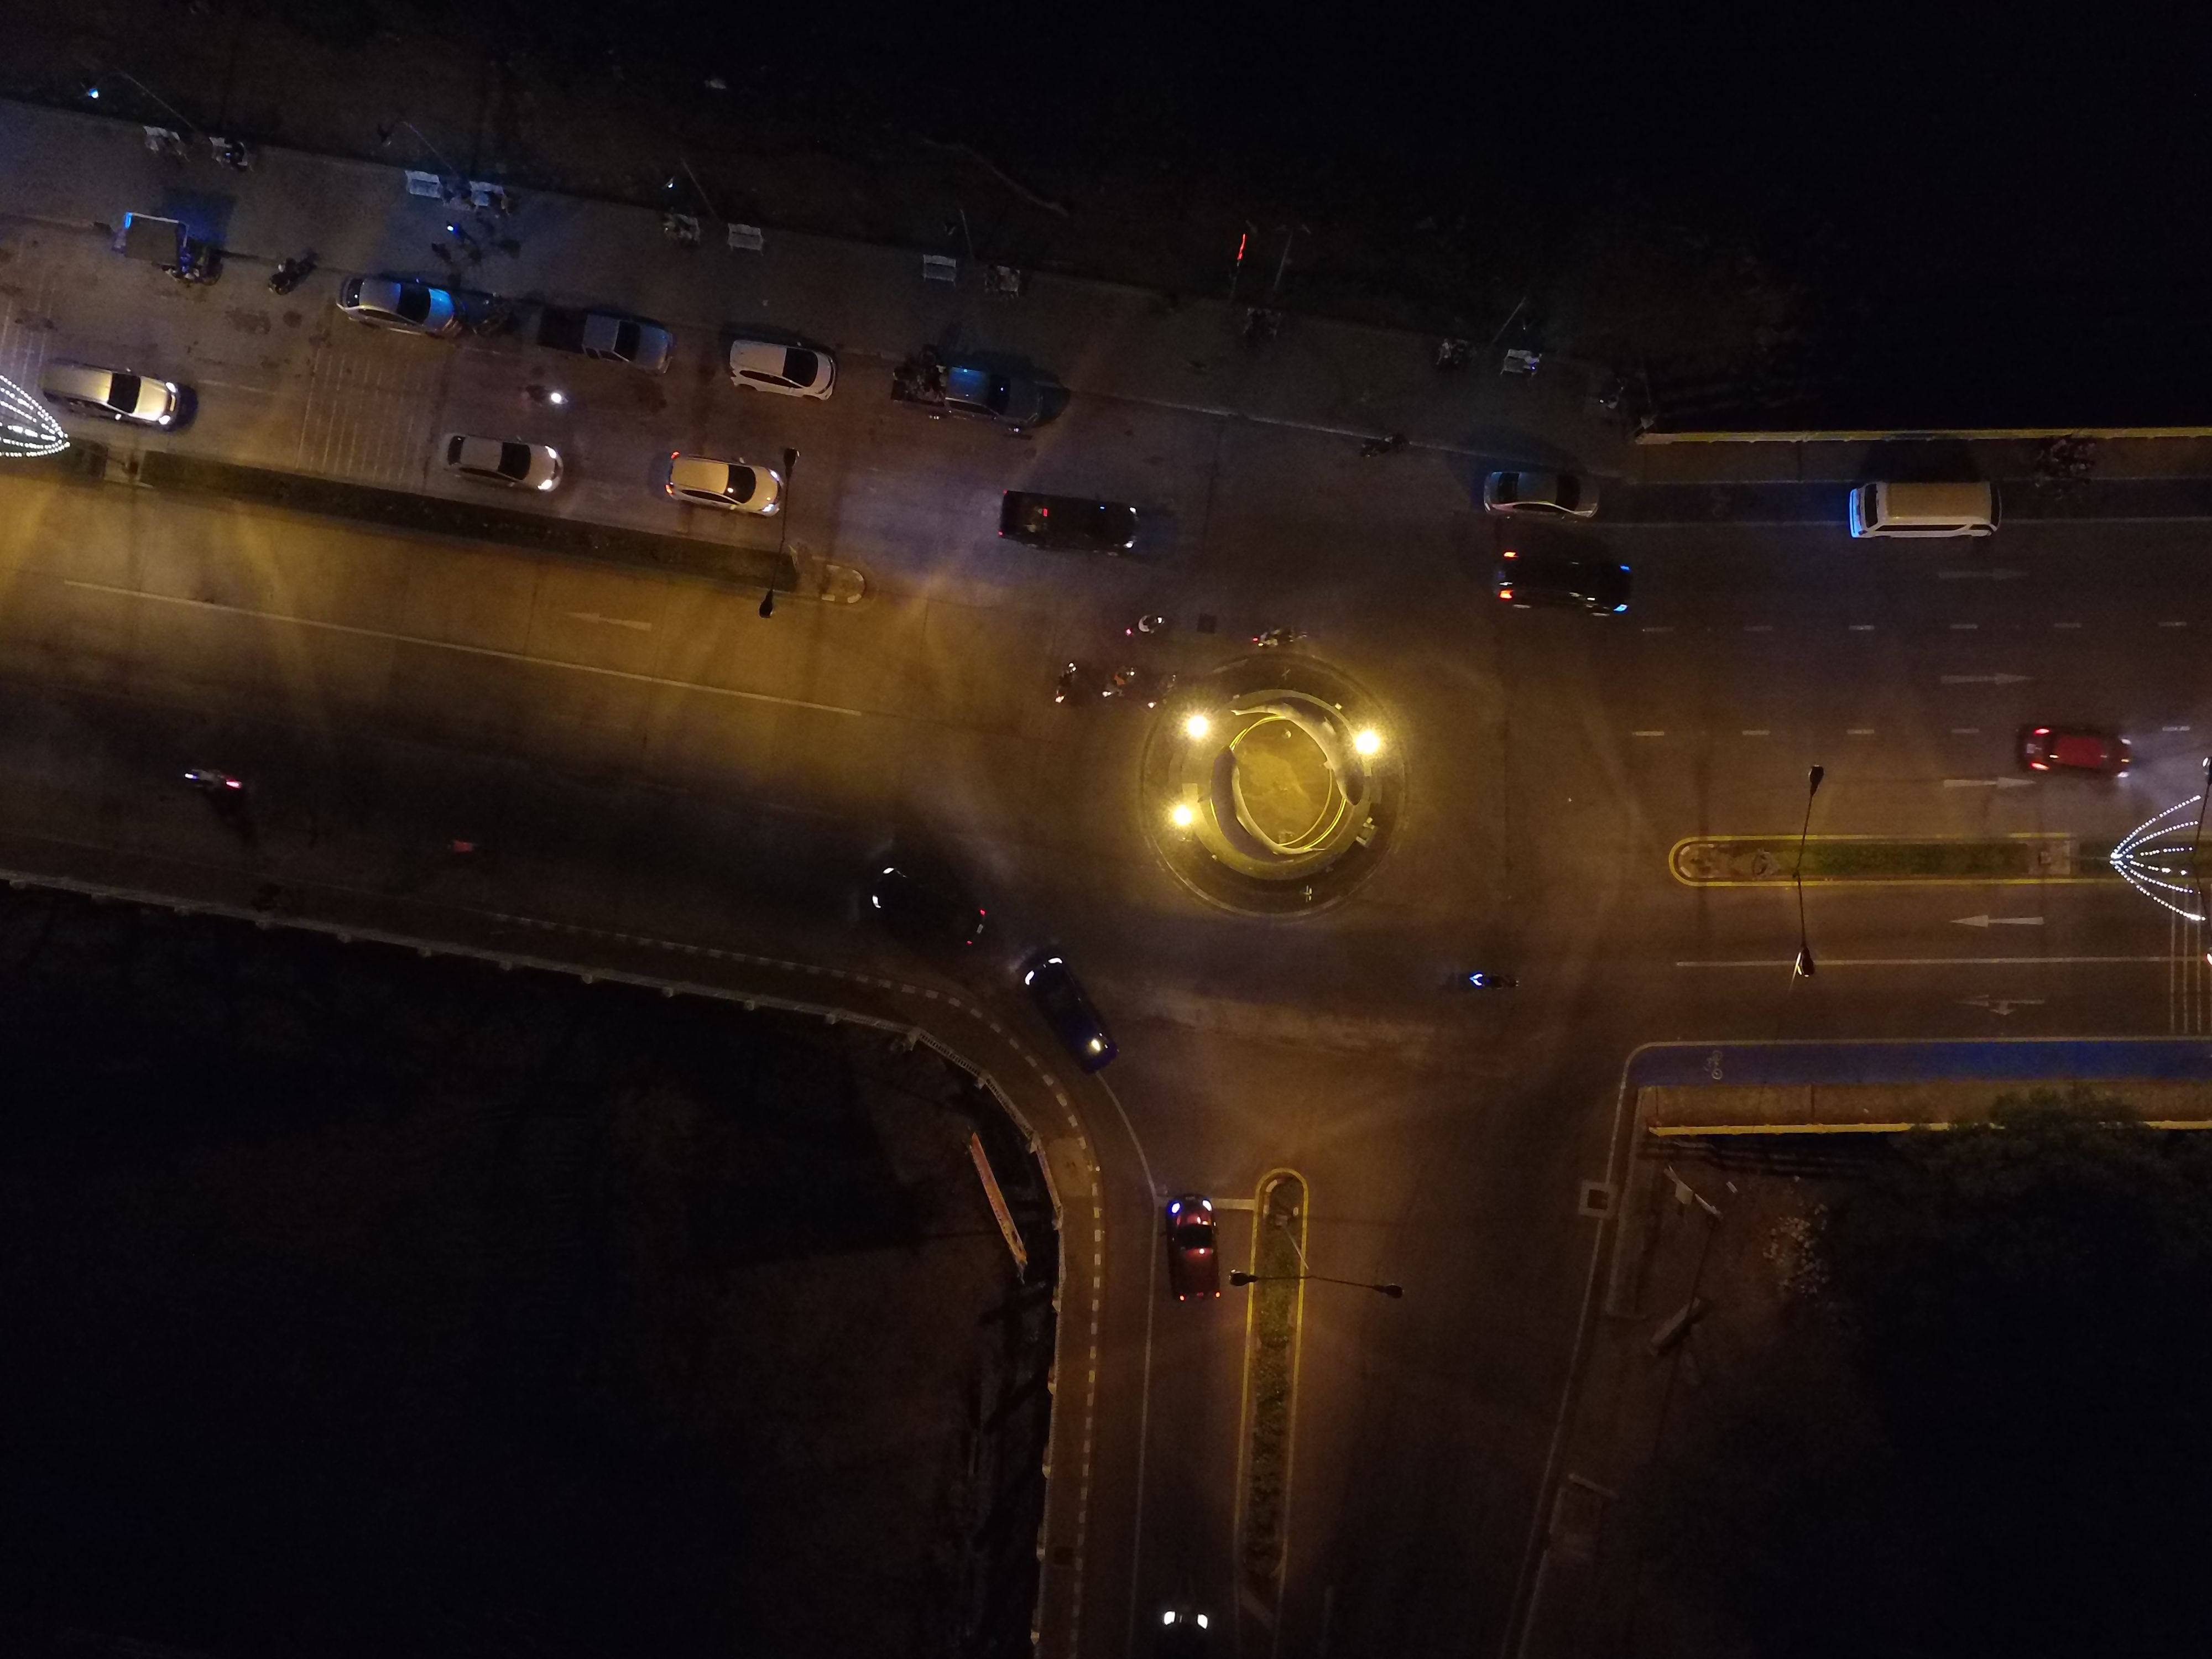car: (1005, 950, 1134, 1077), (1132, 1182, 1263, 1307), (1480, 542, 1648, 638), (1841, 464, 2006, 559), (1989, 711, 2156, 805), (37, 345, 188, 448), (521, 296, 672, 399), (993, 472, 1144, 575), (1465, 444, 1616, 547), (836, 856, 1001, 950), (333, 260, 484, 361), (413, 420, 564, 521), (695, 315, 846, 416), (646, 429, 798, 530), (890, 345, 1042, 446)
